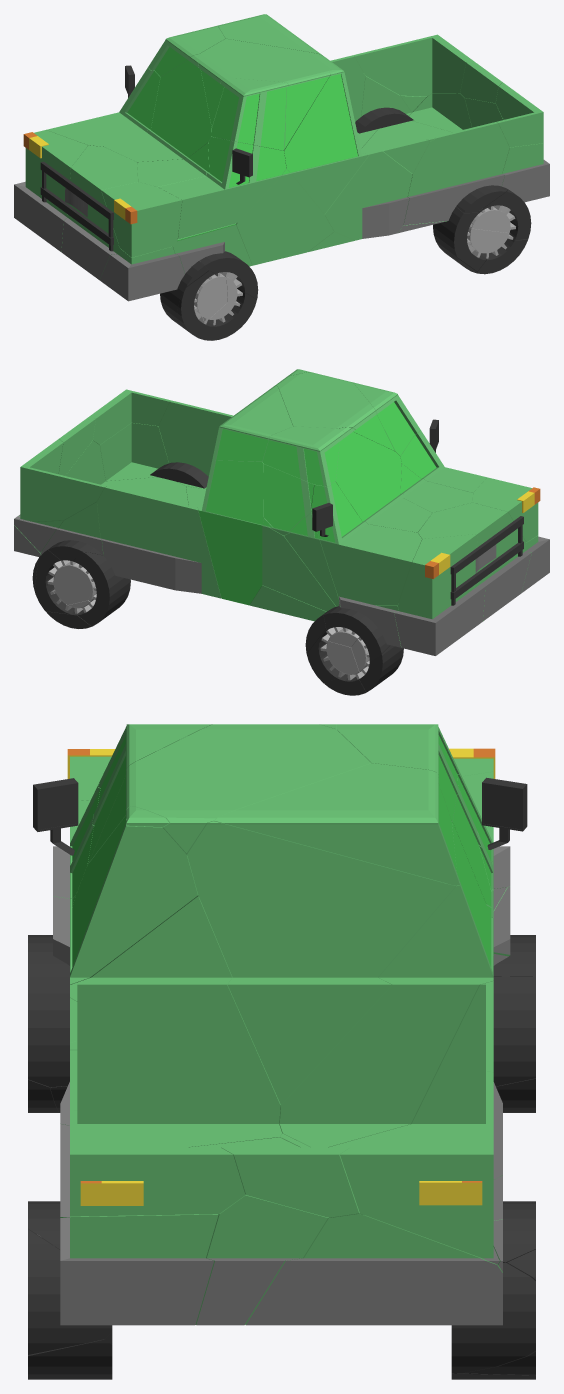
The model's file is Truck Green Shatter.fbx.
3 views of the same model, one above another, from view 1: azimuth 30°, elevation 25°; view 2: azimuth 150°, elevation 25°; view 3: azimuth 270°, elevation 25° (orthographic). The views are drawn at different scales.
Parts seen in each view (by area): view 1: Truck Body.003_cell.005, Truck Body.003_cell.032, Truck Body.003_cell.035, Truck Body.003_cell.010, Truck Body.003_cell.041, Truck Body.003_cell.037, Truck Body.003_cell.001, Truck Body.003_cell.014, Truck Body.003_cell.018, Truck Body.003_cell.036, Truck Body.003_cell.015, Truck Body.003_cell.008 (+29 smaller); view 2: Truck Body.003_cell.027, Truck Body.003_cell.026, Truck Body.003_cell.028, Truck Body.003_cell.015, Truck Body.003_cell.041, Truck Body.003_cell.018, Truck Body.003_cell.035, Truck Body.003_cell.014, Truck Body.003_cell.045, Truck Body.003_cell.019, Truck Body.003_cell.005, Truck Body.003_cell.033 (+33 smaller); view 3: Truck Body.003_cell.039, Truck Body.003_cell.001, Truck Body.003_cell.028, Truck Body.003_cell.022, Truck Body.003_cell.035, Truck Body.003_cell.019, Truck Body.003_cell.049, Truck Body.003_cell.032, Truck Body.003_cell.014, Truck Body.003_cell.021, Truck Body.003_cell.027, Truck Body.003_cell.047 (+26 smaller).
Boxes of the visible parts, x1=… form: Truck Body.003_cell.005: x1=403, y1=122, x2=509, y2=225; Truck Body.003_cell.032: x1=284, y1=72, x2=369, y2=214; Truck Body.003_cell.035: x1=198, y1=38, x2=332, y2=150; Truck Body.003_cell.010: x1=158, y1=137, x2=286, y2=239; Truck Body.003_cell.041: x1=104, y1=53, x2=215, y2=162; Truck Body.003_cell.037: x1=236, y1=169, x2=333, y2=265; Truck Body.003_cell.001: x1=324, y1=148, x2=412, y2=240; Truck Body.003_cell.014: x1=353, y1=34, x2=475, y2=96; Truck Body.003_cell.018: x1=61, y1=145, x2=138, y2=279; Truck Body.003_cell.036: x1=211, y1=78, x2=288, y2=150; Truck Body.003_cell.015: x1=14, y1=130, x2=87, y2=252; Truck Body.003_cell.008: x1=101, y1=182, x2=182, y2=257; Truck Body.003_cell.027: x1=97, y1=486, x2=221, y2=598; Truck Body.003_cell.026: x1=311, y1=481, x2=421, y2=613; Truck Body.003_cell.028: x1=198, y1=460, x2=263, y2=605; Truck Body.003_cell.015: x1=394, y1=534, x2=485, y2=655; Truck Body.003_cell.041: x1=335, y1=427, x2=431, y2=532; Truck Body.003_cell.018: x1=417, y1=502, x2=531, y2=621; Truck Body.003_cell.035: x1=276, y1=372, x2=394, y2=451; Truck Body.003_cell.014: x1=15, y1=439, x2=106, y2=521; Truck Body.003_cell.045: x1=262, y1=426, x2=344, y2=486; Truck Body.003_cell.019: x1=212, y1=385, x2=292, y2=461; Truck Body.003_cell.005: x1=158, y1=400, x2=232, y2=488; Truck Body.003_cell.033: x1=262, y1=518, x2=335, y2=611; Truck Body.003_cell.039: x1=187, y1=821, x2=455, y2=1104; Truck Body.003_cell.001: x1=60, y1=896, x2=282, y2=1147; Truck Body.003_cell.028: x1=279, y1=821, x2=493, y2=1147; Truck Body.003_cell.022: x1=246, y1=1214, x2=502, y2=1325; Truck Body.003_cell.035: x1=89, y1=724, x2=370, y2=862; Truck Body.003_cell.019: x1=215, y1=763, x2=459, y2=885; Truck Body.003_cell.049: x1=60, y1=1214, x2=218, y2=1325; Truck Body.003_cell.032: x1=70, y1=811, x2=198, y2=984; Truck Body.003_cell.014: x1=340, y1=1071, x2=499, y2=1264; Truck Body.003_cell.021: x1=70, y1=1110, x2=245, y2=1216; Truck Body.003_cell.027: x1=329, y1=981, x2=502, y2=1179; Truck Body.003_cell.047: x1=195, y1=1194, x2=329, y2=1325.
Size of the model in its own units: 404 by 197 by 210.
